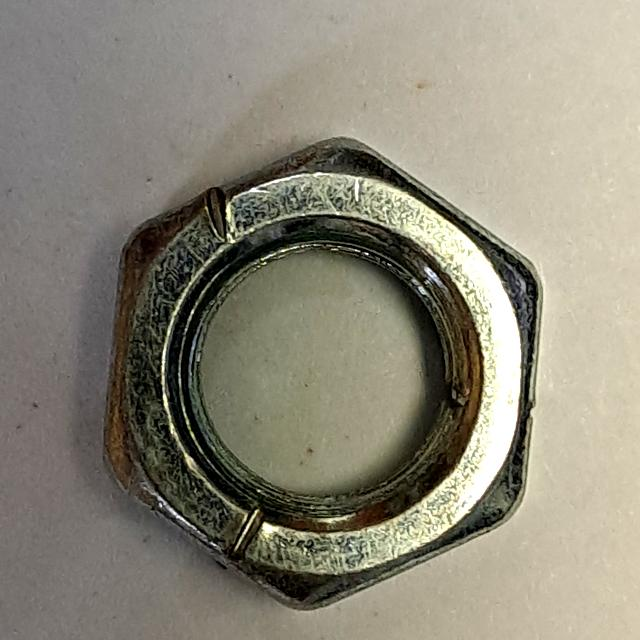Scratches: (93, 119, 561, 626)
